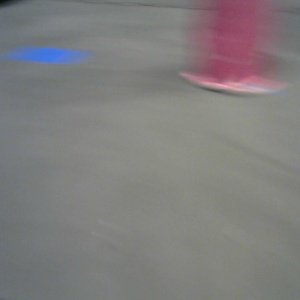Right: (183, 2, 275, 92)
